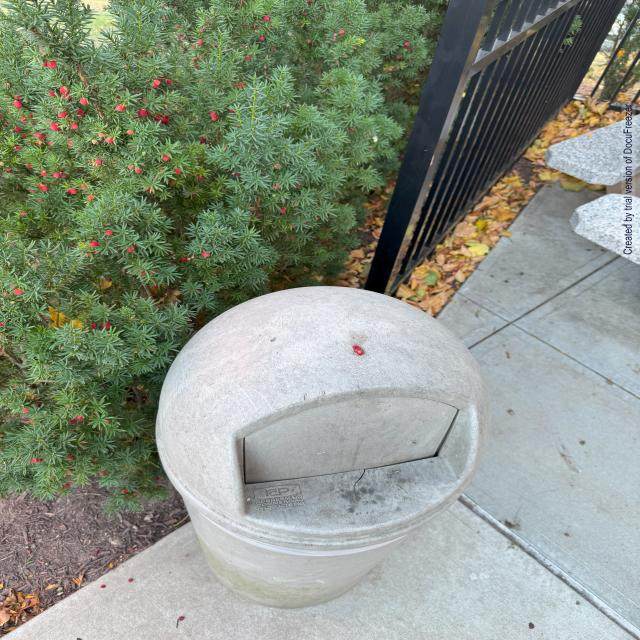Trash bin: (145, 278, 493, 640)
